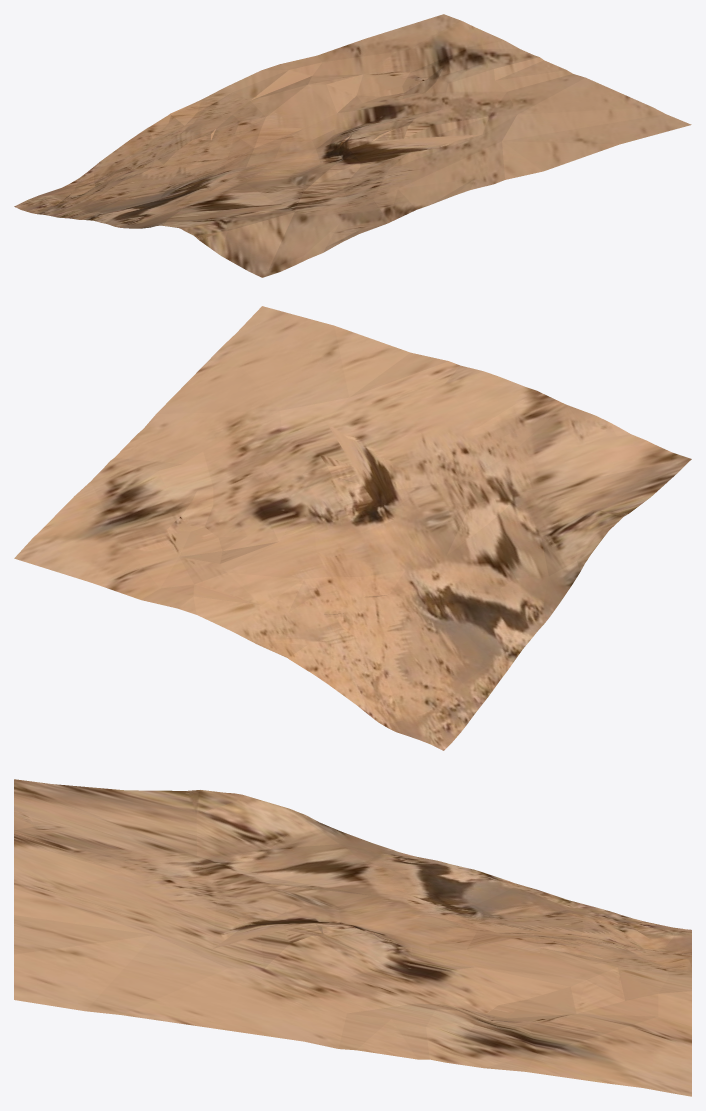
3 renders of one model, top to bottom at view 1: azimuth 30°, elevation 25°; view 2: azimuth 150°, elevation 25°; view 3: azimuth 270°, elevation 25°, orthographic. The views are drawn at different scales.
Size of the model in its own units: 2.09 by 0.7357 by 2.09.
Materials: 2 (2 with a texture image).
